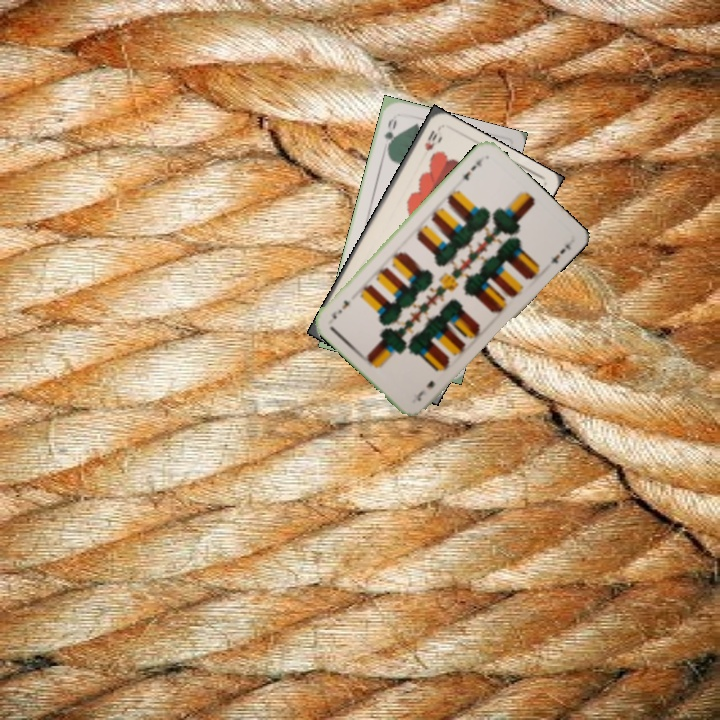E7: (459, 154, 487, 183), (413, 377, 437, 404)
GO: (380, 114, 399, 153)
H10: (420, 126, 440, 153)
